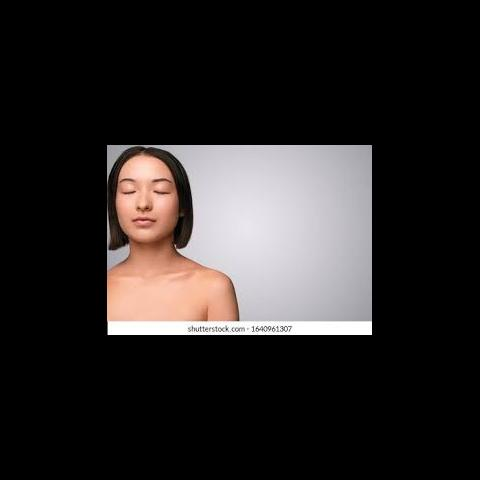closed: (116, 176, 176, 199)
